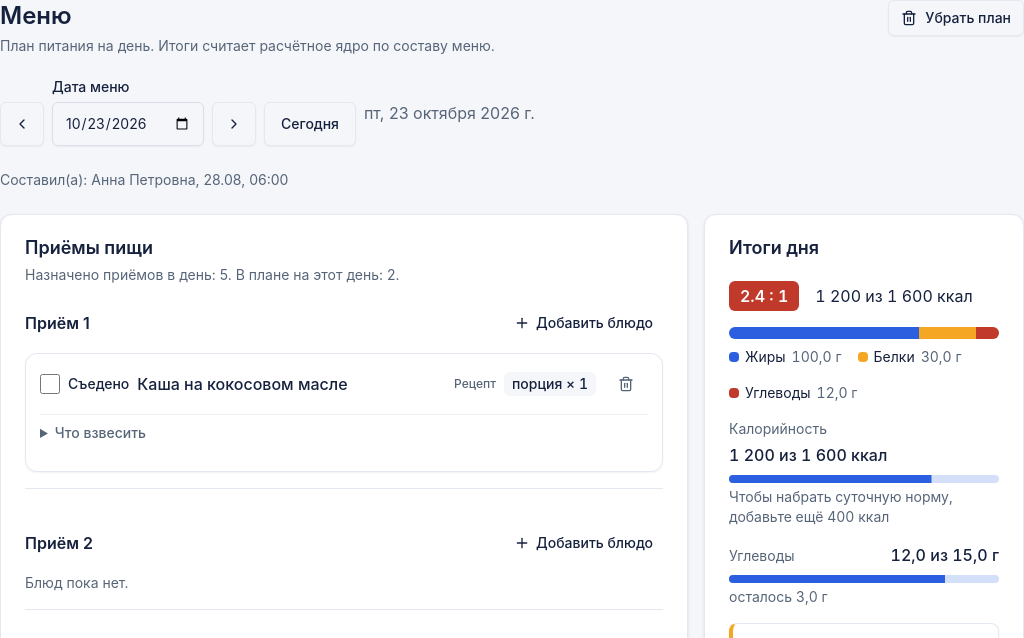
it: MenuPage › ошибка обновления не прячет уже показанный состав дня
The width and height of the screenshot is (1024, 638).
Expected: the text "Каша на кокосовом масле" is shown, x1=137 y1=374 x2=348 y2=394
Note: Отметка «съедено» перечитывает день (onSettled), и перечитывание падает.
Step 1. Click the checkbox named "Отметить «Каша на кокосовом масле» съеденным" → click(50, 384), box x1=40 y1=374 x2=60 y2=394
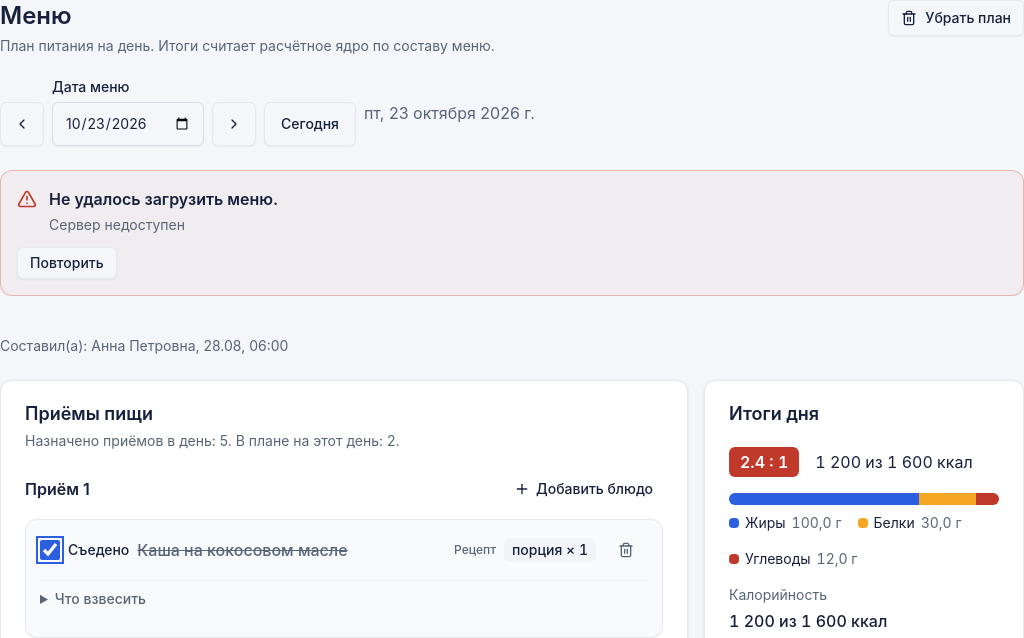
Expected: the text "Каша на кокосовом масле" is shown, x1=137 y1=540 x2=348 y2=560
Now the text "Не удалось загрузить меню." is shown, box x1=49 y1=187 x2=278 y2=211
Now the button "Повторить" is shown, box x1=17 y1=247 x2=117 y2=279
